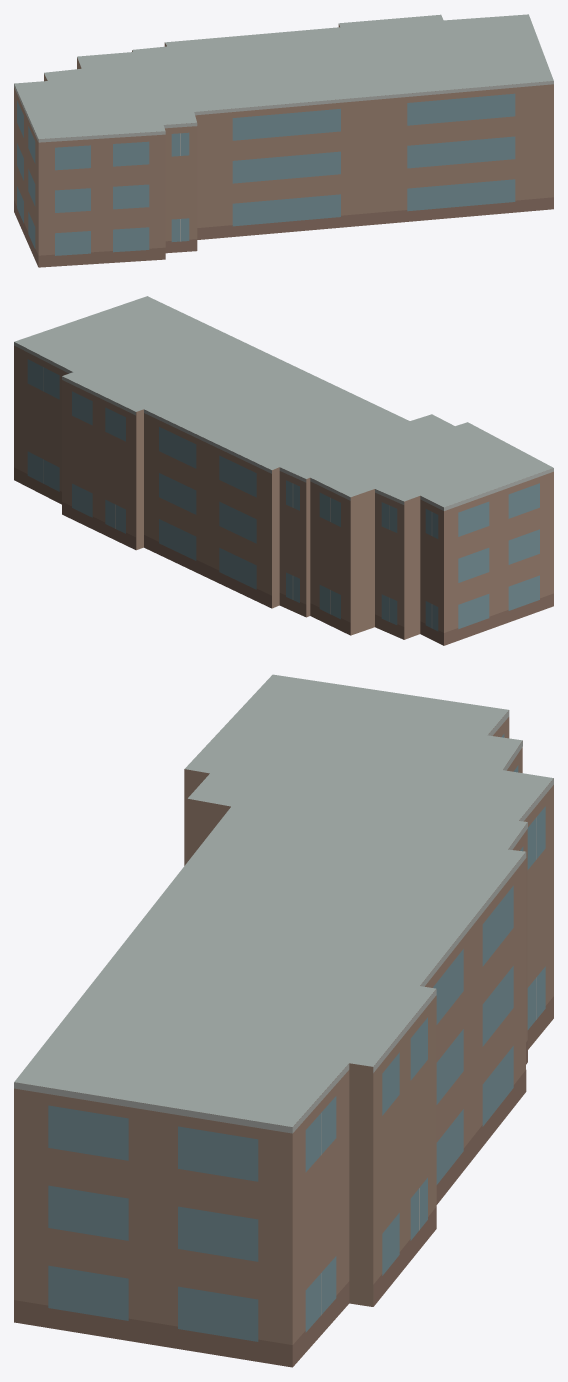
Rendered from survey-upis-32671040.glb.
3 views of the same model, one above another, from view 1: azimuth 30°, elevation 25°; view 2: azimuth 150°, elevation 25°; view 3: azimuth 270°, elevation 25° (orthographic). The views are drawn at different scales.
Parts seen in each view (by area): view 1: survey-upis-32671040.tmp; view 2: survey-upis-32671040.tmp; view 3: survey-upis-32671040.tmp.
Part boxes in pixels (left/top/right/bottom): survey-upis-32671040.tmp: left=14, top=14, right=553, bottom=267; survey-upis-32671040.tmp: left=14, top=296, right=553, bottom=645; survey-upis-32671040.tmp: left=14, top=674, right=553, bottom=1367.
Bounding box in the file's own units: 36.98 × 9.15 × 18.64.
